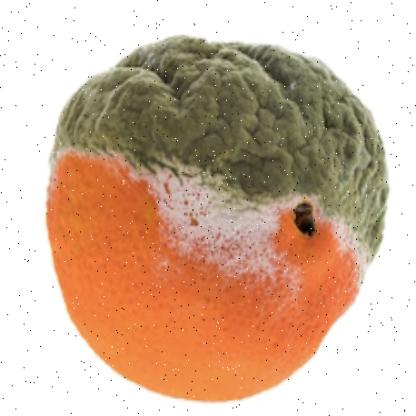rotten: (49, 33, 391, 406)
